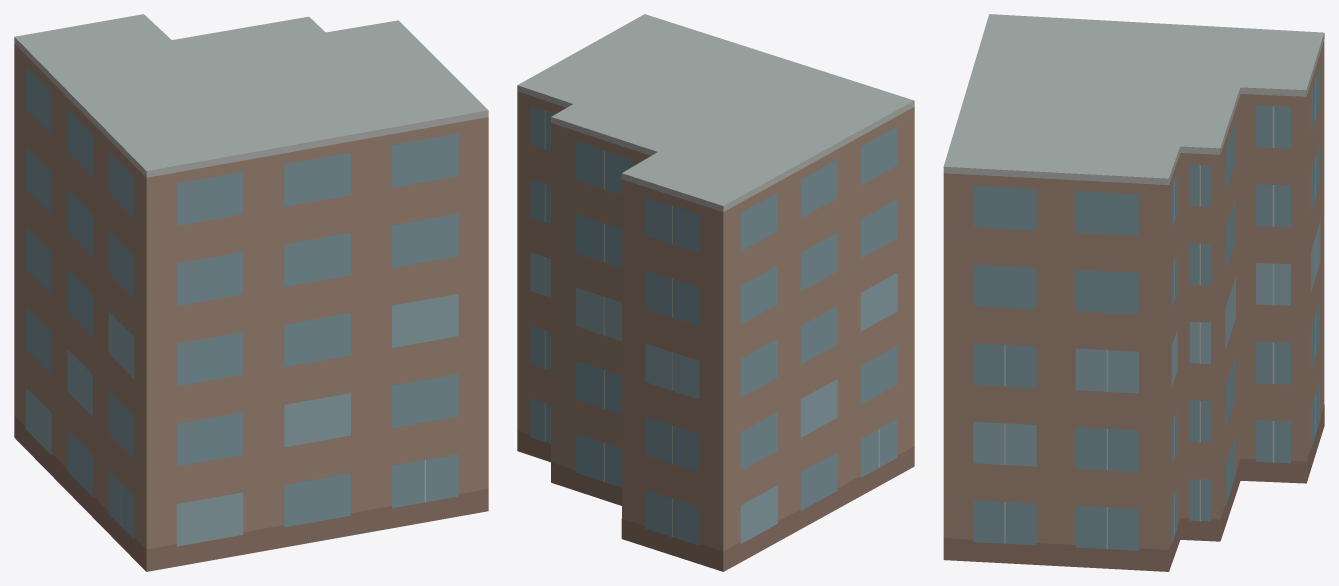
File: survey-upis-32545812.glb
3 views of the same model, side by side, from view 1: azimuth 30°, elevation 25°; view 2: azimuth 150°, elevation 25°; view 3: azimuth 270°, elevation 25° (orthographic). The views are drawn at different scales.
Visible parts, largest first — view 1: survey-upis-32545812.tmp; view 2: survey-upis-32545812.tmp; view 3: survey-upis-32545812.tmp.
Boxes of the visible parts, box(x1,y1,x2,y2) form: survey-upis-32545812.tmp: box(14, 14, 488, 571); survey-upis-32545812.tmp: box(517, 14, 914, 571); survey-upis-32545812.tmp: box(943, 14, 1324, 571).
Bounding box in the file's own units: 13.25 × 14.75 × 12.96.
